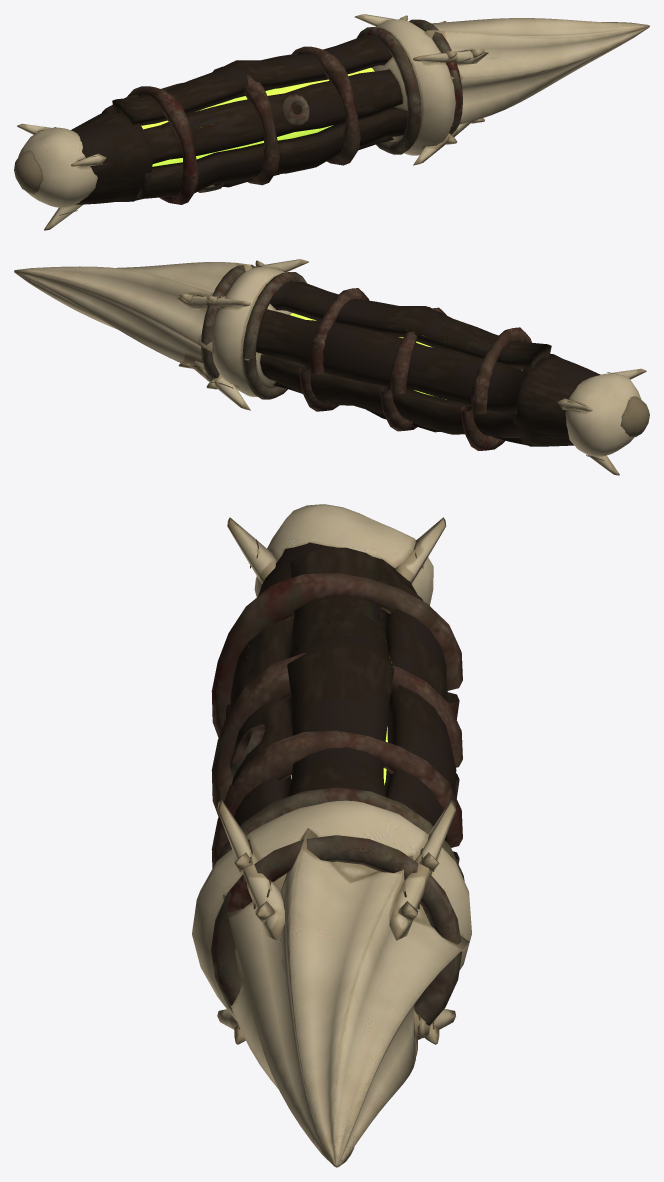
Rendered from chorus_bolt.glb.
3 renders of one model, top to bottom at view 1: azimuth 30°, elevation 25°; view 2: azimuth 150°, elevation 25°; view 3: azimuth 270°, elevation 25°, orthographic. The views are drawn at different scales.
Visible parts, largest first — view 1: chorus_bolt_body_carapace, chorus_bolt_body_bone, chorus_bolt_body_tissue, chorus_bolt_body_scar, chorus_bolt_barb_bone, chorus_bolt_body_veilroot, chorus_bolt_body_chitin, chorus_bolt_spur_bone; view 2: chorus_bolt_body_carapace, chorus_bolt_body_bone, chorus_bolt_body_tissue, chorus_bolt_body_scar, chorus_bolt_barb_bone, chorus_bolt_body_chitin, chorus_bolt_spur_bone; view 3: chorus_bolt_body_bone, chorus_bolt_body_carapace, chorus_bolt_body_tissue, chorus_bolt_body_scar, chorus_bolt_barb_bone, chorus_bolt_spur_bone.
Boxes of the visible parts, x1,y1,x2,y2 form: chorus_bolt_body_carapace: (71, 37, 407, 204); chorus_bolt_body_bone: (18, 18, 649, 207); chorus_bolt_body_tissue: (127, 46, 360, 204); chorus_bolt_body_scar: (198, 19, 462, 192); chorus_bolt_barb_bone: (354, 14, 488, 165); chorus_bolt_body_veilroot: (141, 67, 374, 166); chorus_bolt_body_chitin: (14, 151, 42, 194); chorus_bolt_spur_bone: (17, 123, 106, 230); chorus_bolt_body_carapace: (256, 282, 600, 446); chorus_bolt_body_bone: (14, 262, 641, 456); chorus_bolt_body_tissue: (299, 288, 531, 450); chorus_bolt_body_scar: (201, 264, 306, 399); chorus_bolt_barb_bone: (175, 259, 308, 410); chorus_bolt_body_chitin: (620, 396, 649, 437); chorus_bolt_spur_bone: (557, 368, 646, 475); chorus_bolt_body_bone: (192, 504, 471, 1167); chorus_bolt_body_carapace: (224, 542, 456, 841); chorus_bolt_body_tissue: (211, 573, 462, 868); chorus_bolt_body_scar: (211, 724, 464, 1025); chorus_bolt_barb_bone: (217, 799, 456, 1056); chorus_bolt_spur_bone: (227, 517, 446, 584).
Size of the model in its own units: 2.34 by 0.4418 by 0.4502.
Materials: 3 (2 with a texture image).
